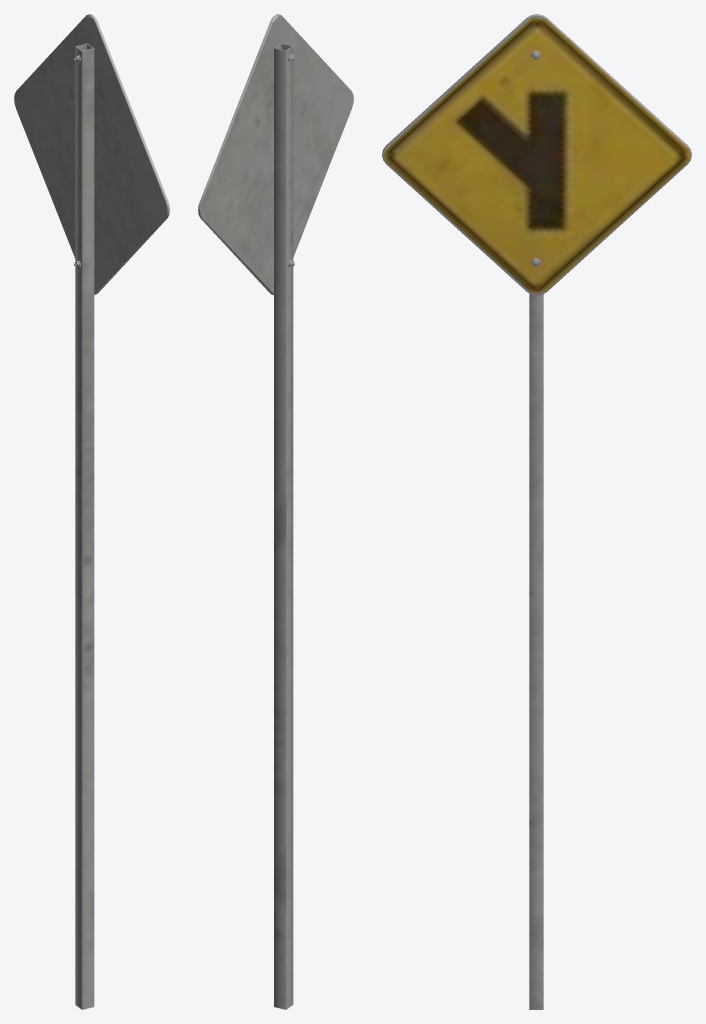
File: sign-curve.lod0.glb
3 views of the same model, side by side, from view 1: azimuth 30°, elevation 25°; view 2: azimuth 150°, elevation 25°; view 3: azimuth 270°, elevation 25° (orthographic).
Parts seen in each view (by area): view 1: povorot_LOW_POLY_sign_0; view 2: povorot_LOW_POLY_sign_0; view 3: povorot_LOW_POLY_sign_0.
Boxes of the visible parts, box(x1,y1,x2,y2) form: povorot_LOW_POLY_sign_0: box(14, 14, 169, 1009); povorot_LOW_POLY_sign_0: box(198, 14, 353, 1009); povorot_LOW_POLY_sign_0: box(382, 14, 691, 1009).
Size of the model in its own units: 0.0594 by 2.6 by 0.7329.
1 material, 1 textured.
